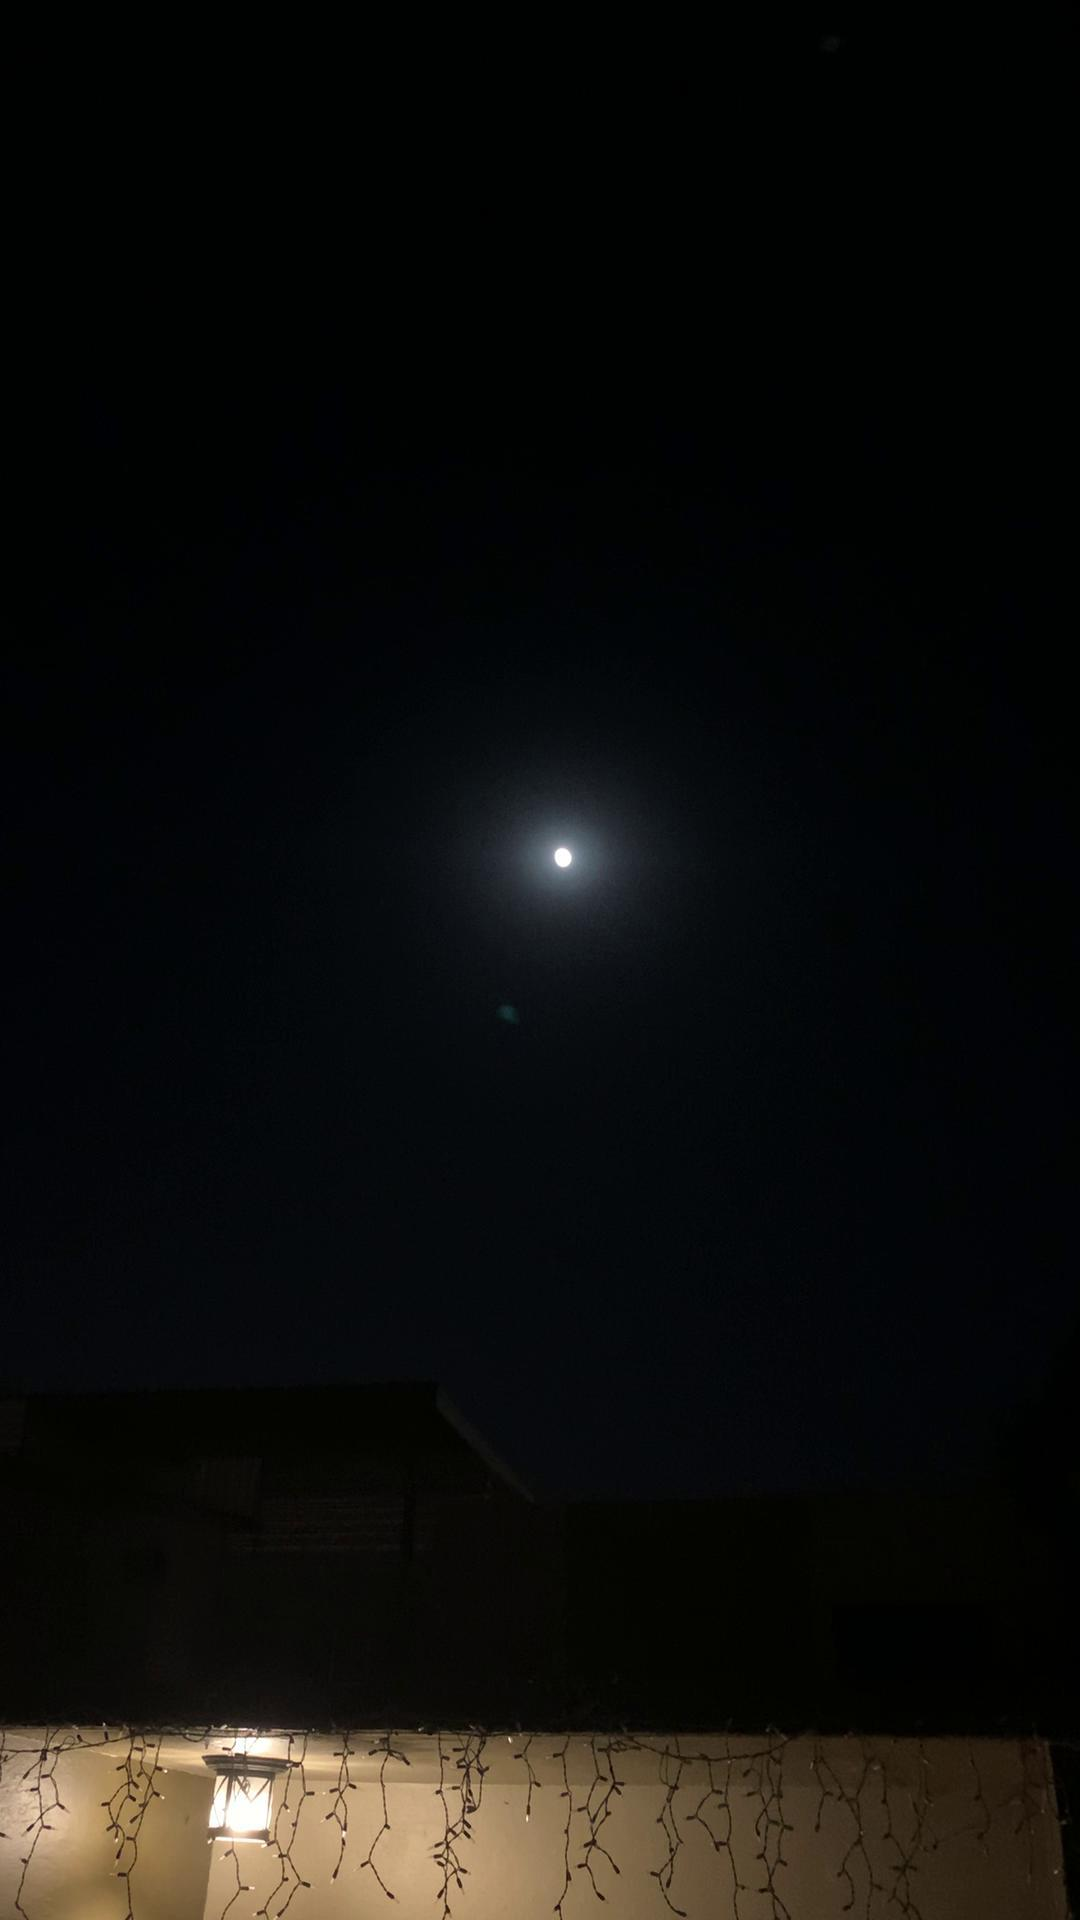moon: (524, 815, 611, 911)
